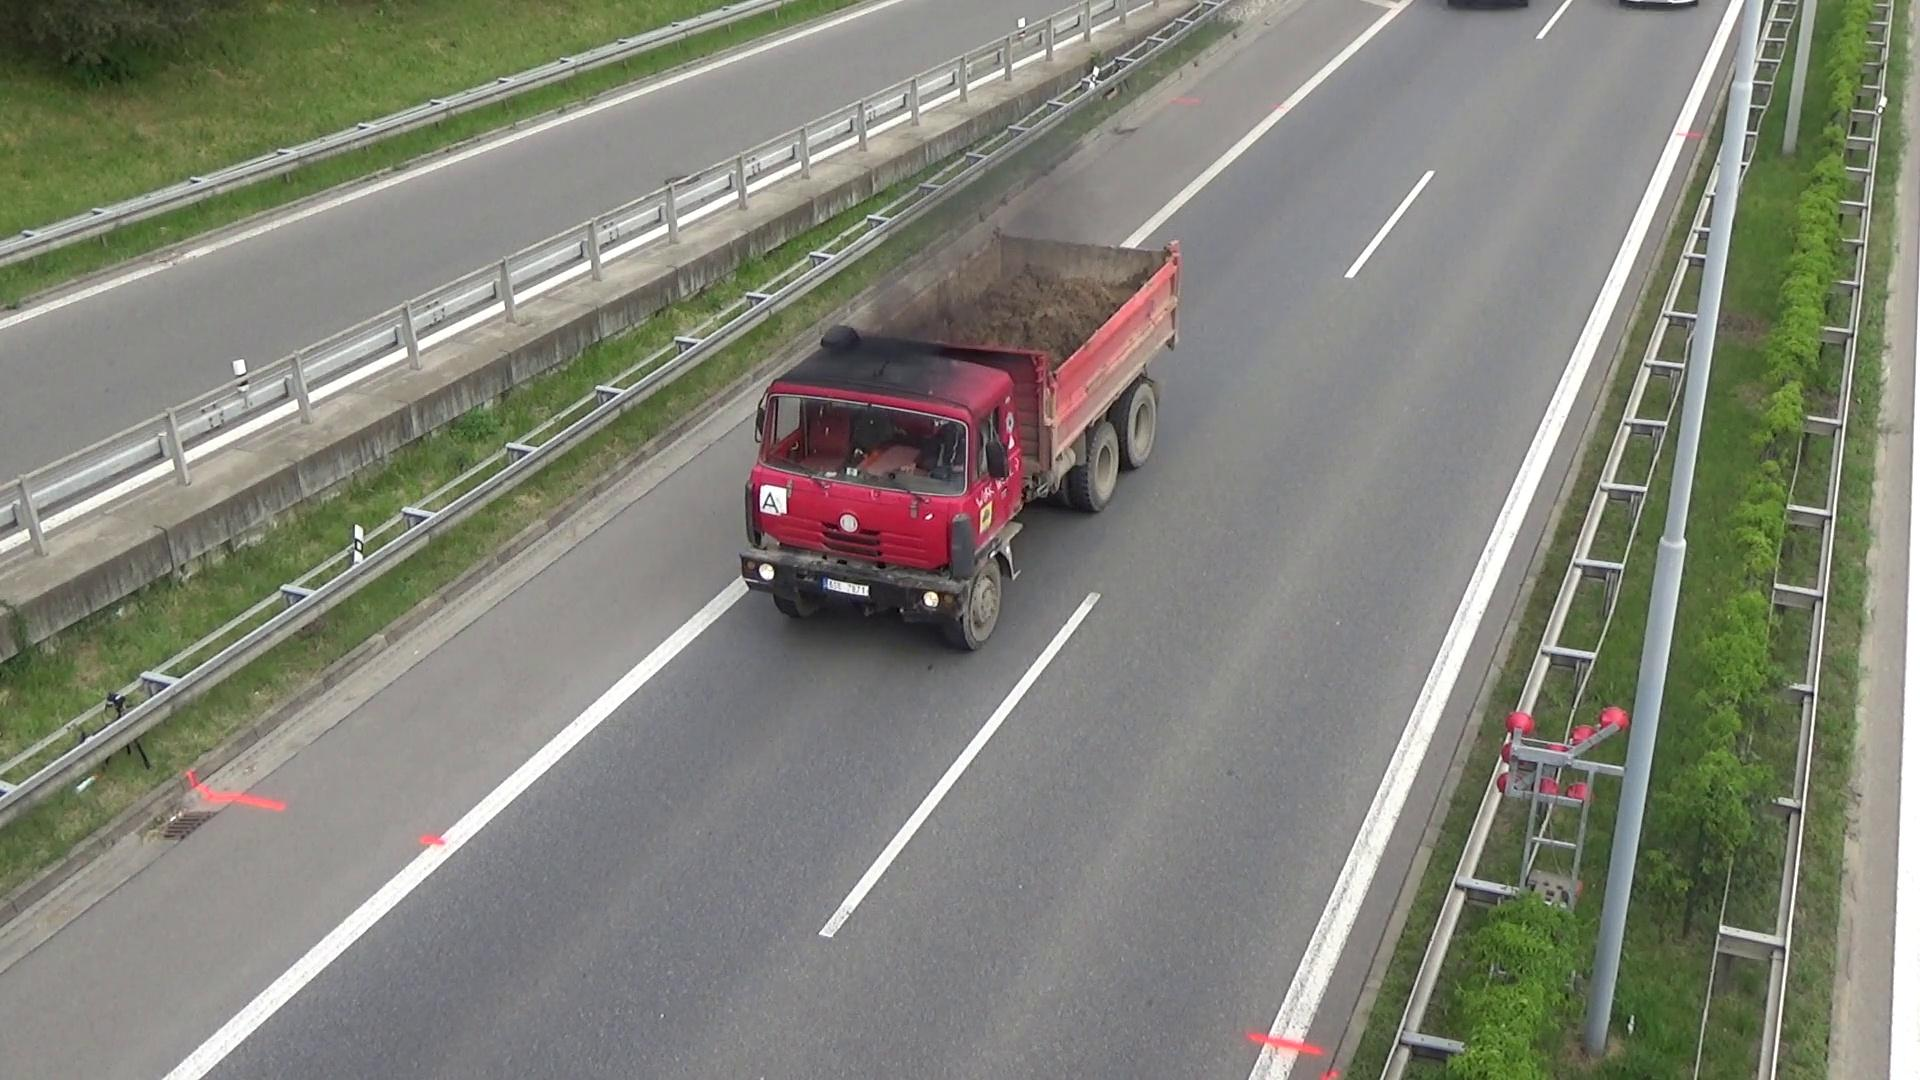Lorry: (696, 227, 1208, 678)
